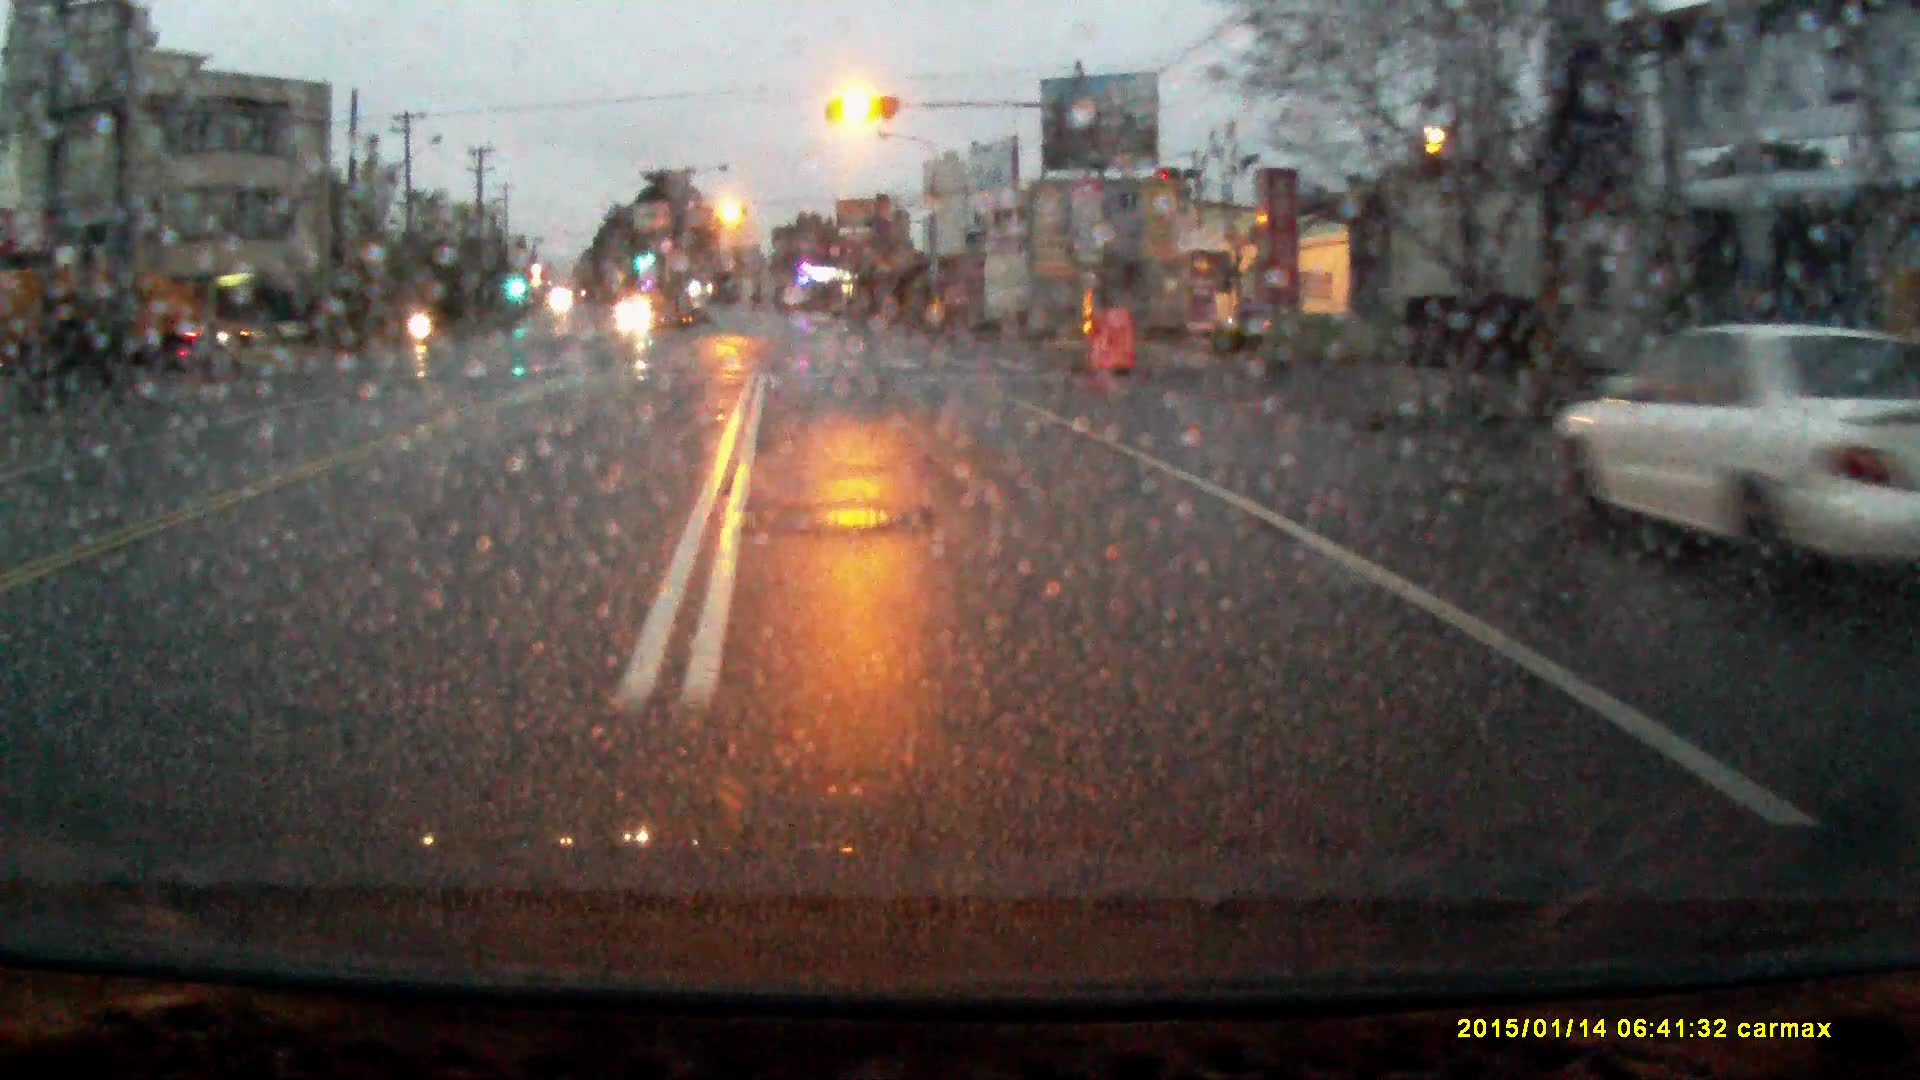rider: (407, 285, 436, 350)
vehicle: (1541, 325, 1919, 564), (1, 258, 221, 378), (615, 295, 653, 326)
